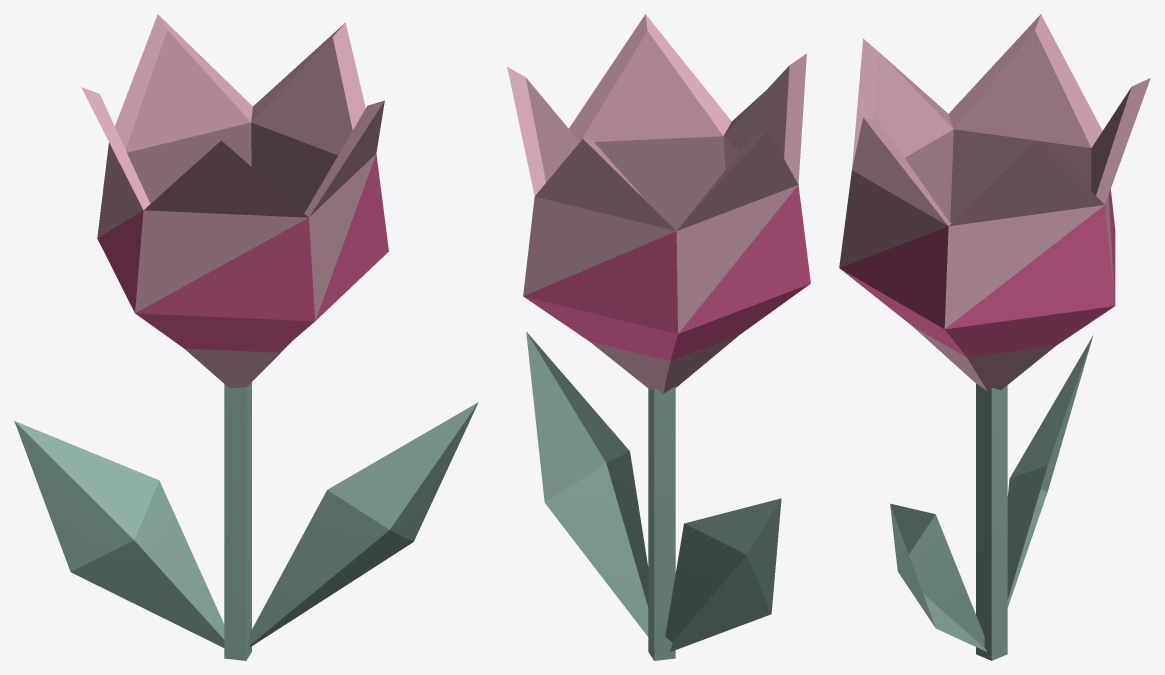
File: tulip.glb
The picture shows the model from 3 angles, left to right: view 1: azimuth 30°, elevation 25°; view 2: azimuth 150°, elevation 25°; view 3: azimuth 270°, elevation 25°; orthographic projection.
Visible parts, largest first — view 1: root_mesh; view 2: root_mesh; view 3: root_mesh.
Part boxes in pixels (x1,y1,x2,y2): root_mesh: (14, 14, 478, 660); root_mesh: (507, 14, 810, 660); root_mesh: (839, 14, 1150, 660).
Bounding box in the file's own units: 0.26 × 0.4 × 0.196.
